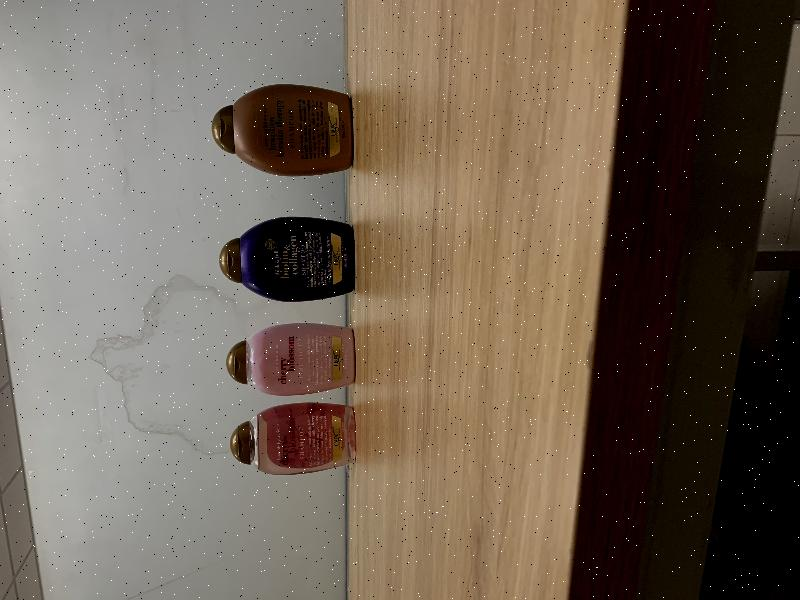BiotinCollagen_Shampoo: (219, 216, 355, 302)
BrazilianKeratinTherapy_Shampoo: (212, 84, 353, 177)
CherryBlossom_Conditioner: (226, 323, 356, 396)
CherryBlossom_Shampoo: (230, 402, 357, 475)
